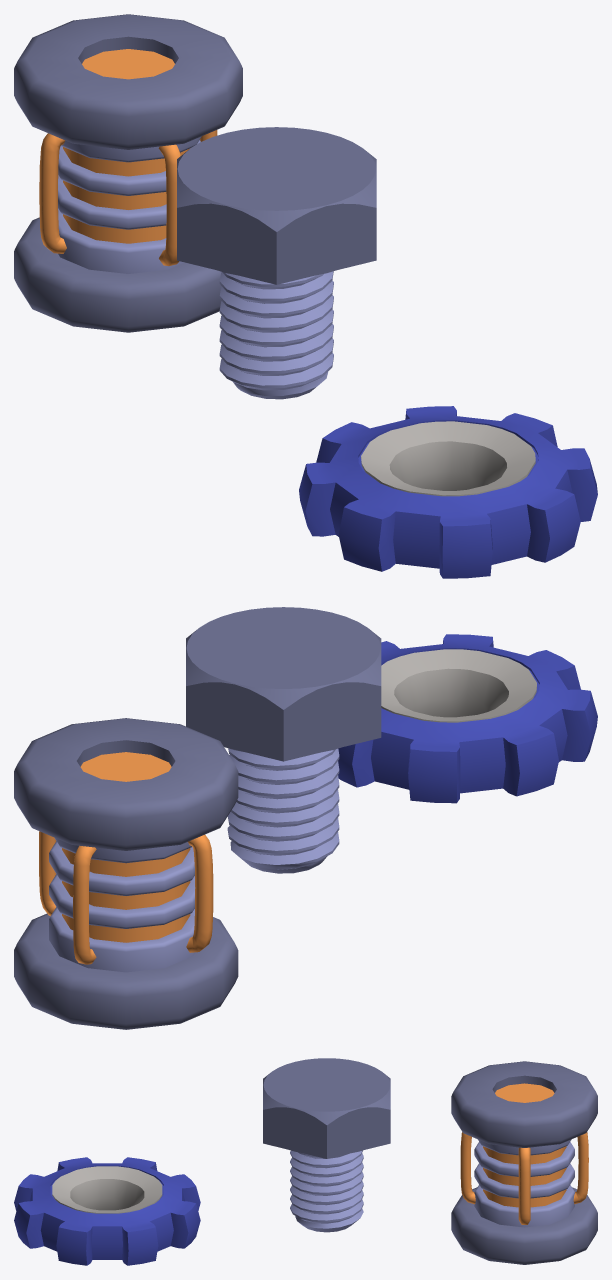
File: Spare parts.fbx
3 renders of one model, top to bottom at view 1: azimuth 30°, elevation 25°; view 2: azimuth 150°, elevation 25°; view 3: azimuth 270°, elevation 25°, orthographic. The views are drawn at different scales.
Parts seen in each view (by area): view 1: Cylinder.002, Bolt.001, Gear.001; view 2: Cylinder.002, Bolt.001, Gear.001; view 3: Cylinder.002, Bolt.001, Gear.001.
Part boxes in pixels (bbox=[...]): Cylinder.002: bbox=[14, 14, 242, 332]; Bolt.001: bbox=[177, 127, 376, 399]; Gear.001: bbox=[299, 406, 597, 578]; Cylinder.002: bbox=[14, 718, 238, 1029]; Bolt.001: bbox=[186, 607, 381, 873]; Gear.001: bbox=[338, 634, 597, 803]; Cylinder.002: bbox=[451, 1061, 597, 1264]; Bolt.001: bbox=[263, 1058, 390, 1232]; Gear.001: bbox=[14, 1157, 200, 1265].
Bounding box in the file's own units: 0.5367 × 0.4759 × 1.68.
